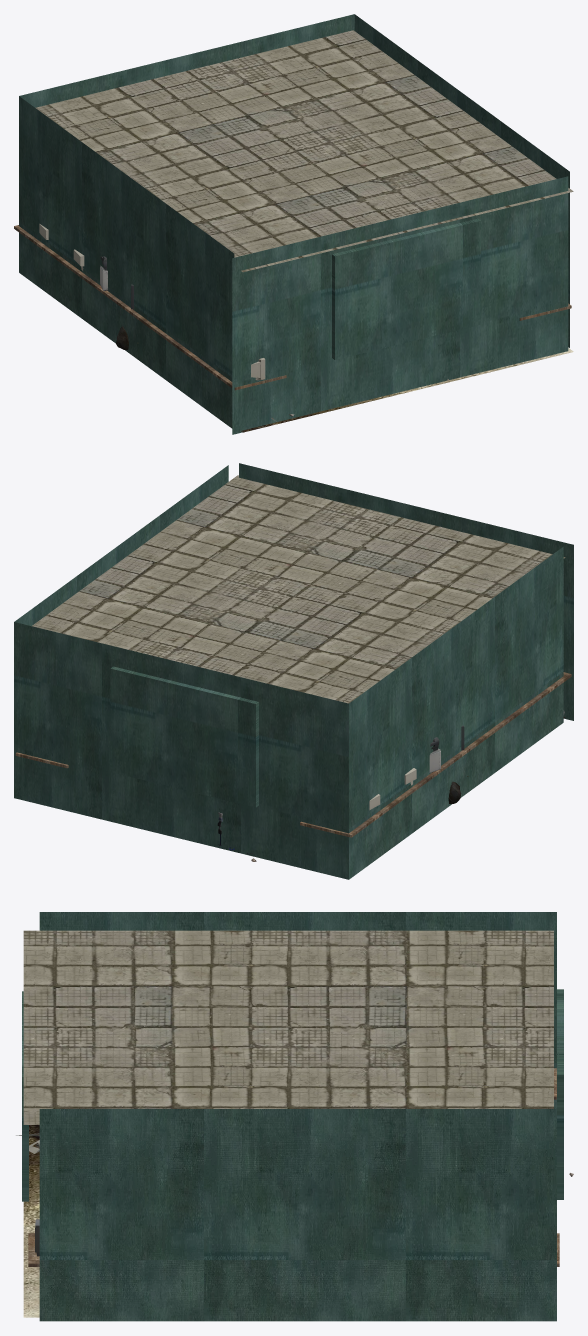
The model's file is badroom.glb.
3 renders of one model, top to bottom at view 1: azimuth 30°, elevation 25°; view 2: azimuth 150°, elevation 25°; view 3: azimuth 270°, elevation 25°, orthographic. The views are drawn at different scales.
Visible parts, largest first — view 1: Plane.002, Plane.004, Cube, Plane; view 2: Plane.002, Plane.004, Cube; view 3: Plane.002, Plane.004, Plane.
Part boxes in pixels (box(x1,y1,x2,y2)): Plane.002: box(19, 14, 569, 434); Plane.004: box(35, 30, 573, 272); Cube: box(14, 225, 286, 390); Plane: box(241, 348, 573, 432); Plane.002: box(14, 463, 573, 879); Plane.004: box(32, 475, 565, 703); Cube: box(300, 672, 571, 837); Plane.002: box(22, 912, 563, 1321); Plane.004: box(23, 930, 553, 1124); Plane: box(23, 1125, 39, 1317).
Bounding box in the file's own units: 7.24 × 3.63 × 8.52.
18 materials, 18 textured.
